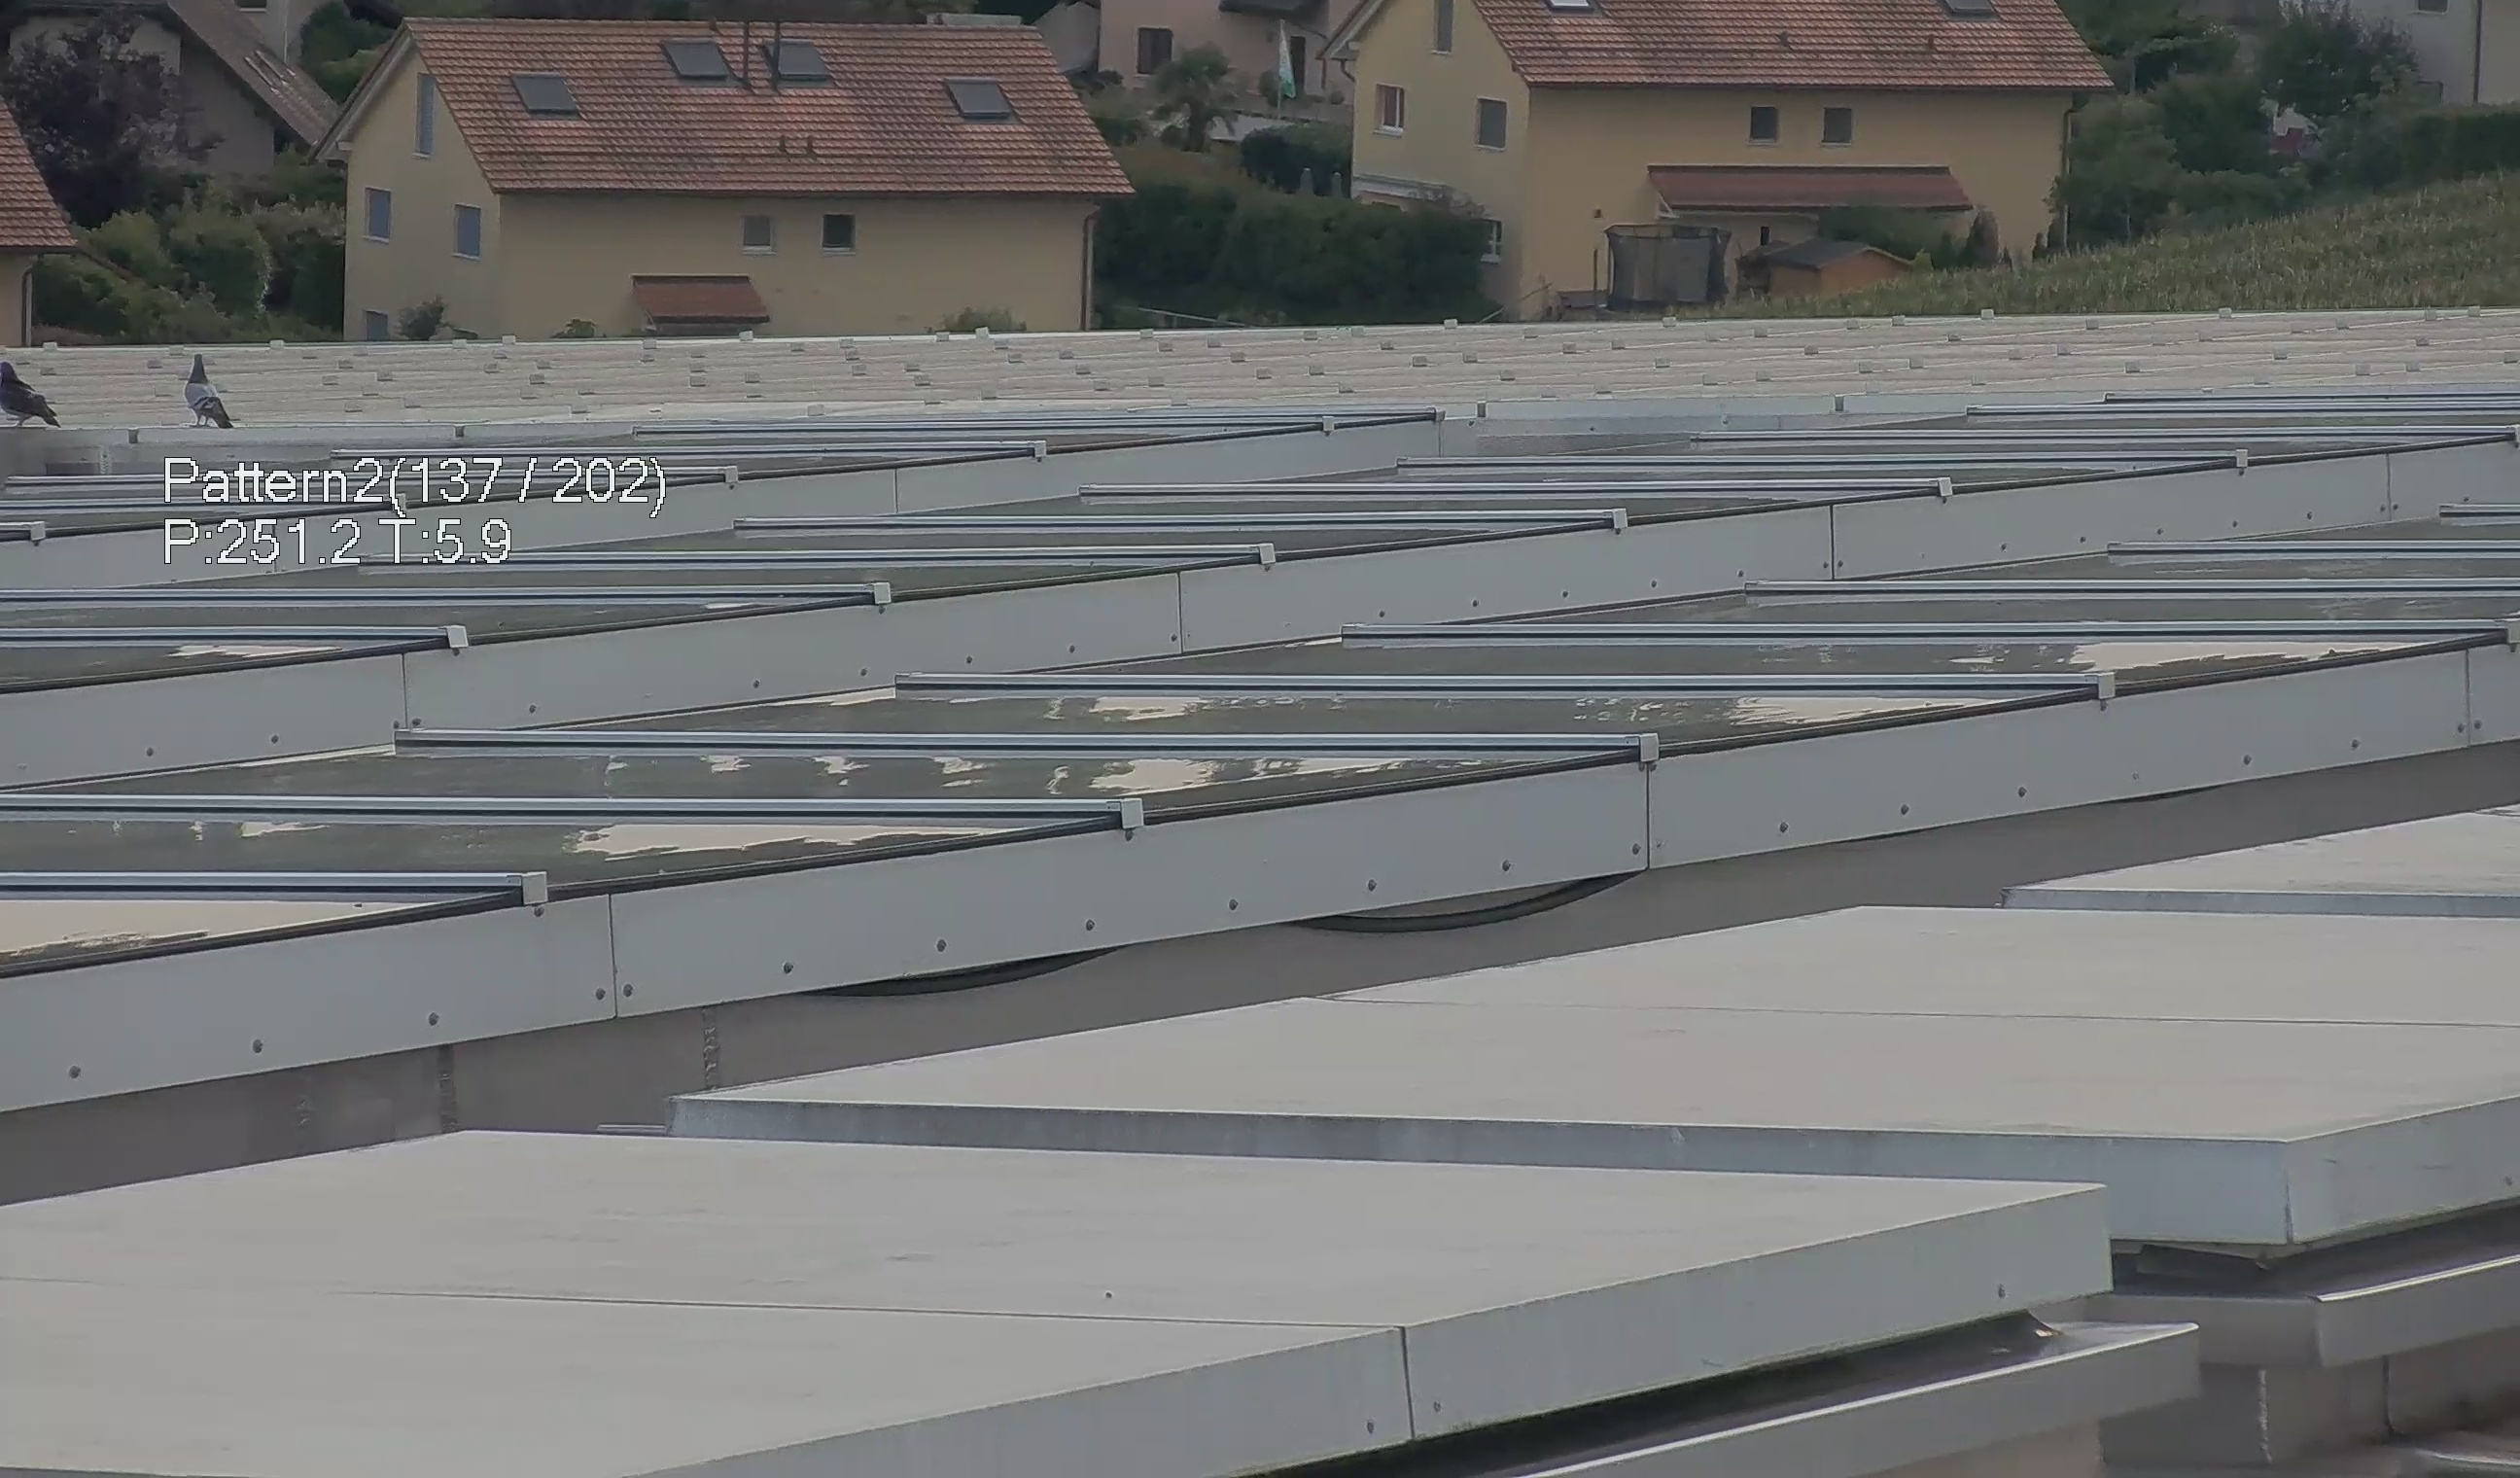Pigeon: (171, 347, 250, 429), (2, 348, 67, 426)
